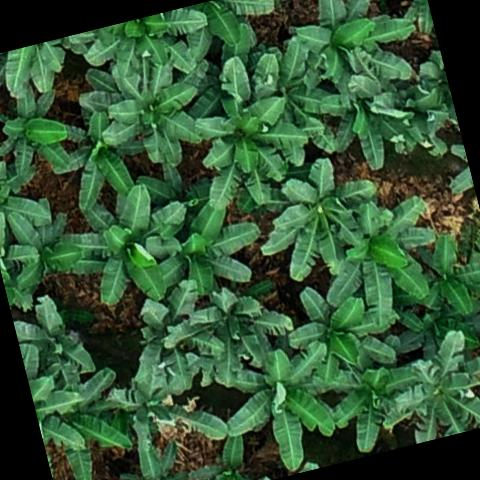Banana-plant: (183, 50, 312, 209), (250, 148, 391, 292), (312, 199, 454, 334), (55, 177, 199, 308), (77, 52, 209, 184), (157, 278, 302, 392), (214, 347, 346, 471), (282, 0, 422, 102), (147, 201, 271, 305), (308, 54, 414, 173), (72, 3, 214, 86), (324, 354, 440, 454), (29, 368, 131, 480), (254, 38, 349, 156), (384, 334, 480, 446), (45, 108, 148, 204), (281, 281, 376, 382), (174, 0, 293, 71), (11, 288, 97, 386), (0, 203, 81, 299), (0, 95, 79, 180), (412, 232, 480, 315), (0, 152, 57, 244), (115, 434, 197, 480), (188, 432, 256, 480)
